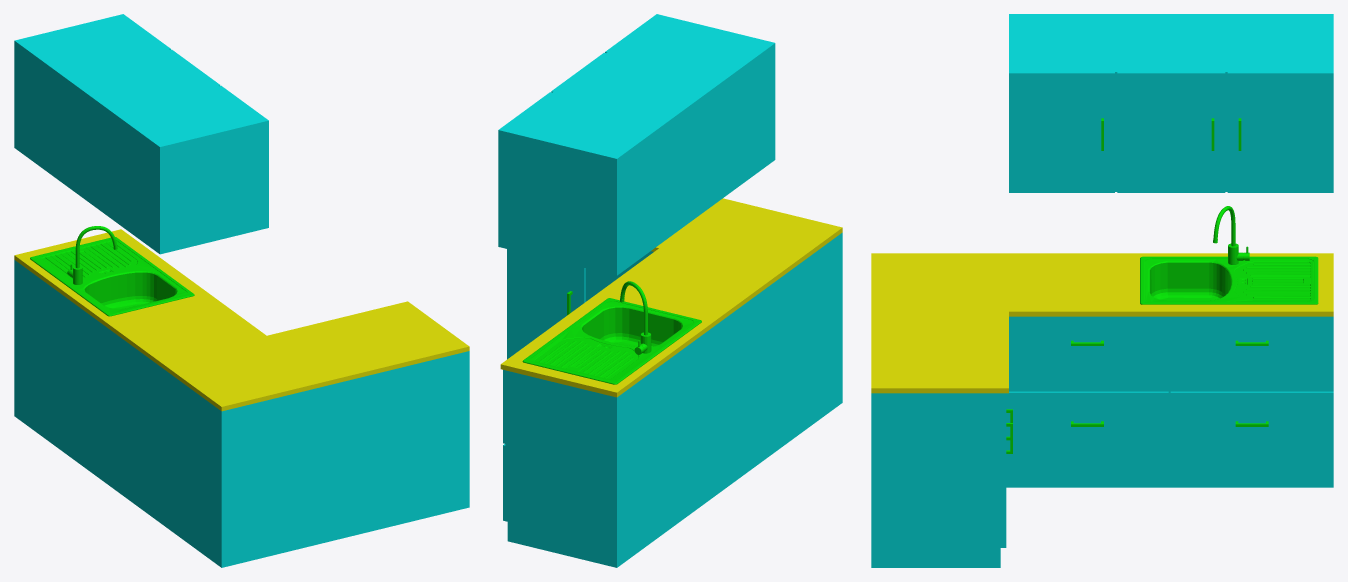
File: OM_1BHK_Kitchen_Cabinates_01.fbx
3 renders of one model, left to right at view 1: azimuth 30°, elevation 25°; view 2: azimuth 150°, elevation 25°; view 3: azimuth 270°, elevation 25°, orthographic. The views are drawn at different scales.
Visible parts, largest first — view 1: OM_1BHK_Kitchen_Cabinates_01_B_Main_cage, OM_1BHK_Kitchen_Cabinates_01_T_Main_cage, OM_1BHK_Kitchen_Cabinates_01_B_Topmarble, OM_1BHK_Kitchen_Cabinates_01_B_Sink, OM_1BHK_Kitchen_Cabinates_01_T_Doors; view 2: OM_1BHK_Kitchen_Cabinates_01_B_Main_cage, OM_1BHK_Kitchen_Cabinates_01_T_Main_cage, OM_1BHK_Kitchen_Cabinates_01_B_Topmarble, OM_1BHK_Kitchen_Cabinates_01_B_Sink, OM_1BHK_Kitchen_Cabinates_01_B_Doors, OM_1BHK_Kitchen_Cabinates_01_T_Doors; view 3: OM_1BHK_Kitchen_Cabinates_01_B_Doors, OM_1BHK_Kitchen_Cabinates_01_T_Doors, OM_1BHK_Kitchen_Cabinates_01_B_Topmarble, OM_1BHK_Kitchen_Cabinates_01_B_Main_cage, OM_1BHK_Kitchen_Cabinates_01_T_Main_cage, OM_1BHK_Kitchen_Cabinates_01_B_Sink, OM_1BHK_Kitchen_Cabinates_01_B_Handles.
Boxes of the visible parts, left/top/right/bottom form: OM_1BHK_Kitchen_Cabinates_01_B_Main_cage: left=14, top=260, right=469, bottom=567; OM_1BHK_Kitchen_Cabinates_01_T_Main_cage: left=14, top=14, right=266, bottom=254; OM_1BHK_Kitchen_Cabinates_01_B_Topmarble: left=14, top=229, right=469, bottom=411; OM_1BHK_Kitchen_Cabinates_01_B_Sink: left=30, top=226, right=194, bottom=316; OM_1BHK_Kitchen_Cabinates_01_T_Doors: left=121, top=14, right=268, bottom=228; OM_1BHK_Kitchen_Cabinates_01_B_Main_cage: left=505, top=232, right=842, bottom=567; OM_1BHK_Kitchen_Cabinates_01_T_Main_cage: left=500, top=14, right=775, bottom=275; OM_1BHK_Kitchen_Cabinates_01_B_Topmarble: left=500, top=198, right=842, bottom=397; OM_1BHK_Kitchen_Cabinates_01_B_Sink: left=522, top=281, right=701, bottom=384; OM_1BHK_Kitchen_Cabinates_01_B_Doors: left=503, top=249, right=653, bottom=520; OM_1BHK_Kitchen_Cabinates_01_T_Doors: left=498, top=14, right=658, bottom=247; OM_1BHK_Kitchen_Cabinates_01_B_Doors: left=1003, top=316, right=1333, bottom=547; OM_1BHK_Kitchen_Cabinates_01_T_Doors: left=1009, top=72, right=1333, bottom=192; OM_1BHK_Kitchen_Cabinates_01_B_Topmarble: left=871, top=253, right=1333, bottom=393; OM_1BHK_Kitchen_Cabinates_01_B_Main_cage: left=871, top=316, right=1333, bottom=567; OM_1BHK_Kitchen_Cabinates_01_T_Main_cage: left=1009, top=14, right=1333, bottom=191; OM_1BHK_Kitchen_Cabinates_01_B_Sink: left=1140, top=206, right=1318, bottom=304; OM_1BHK_Kitchen_Cabinates_01_B_Handles: left=1006, top=340, right=1268, bottom=453.
Bounding box in the file's own units: 4.83 × 7 × 7.
